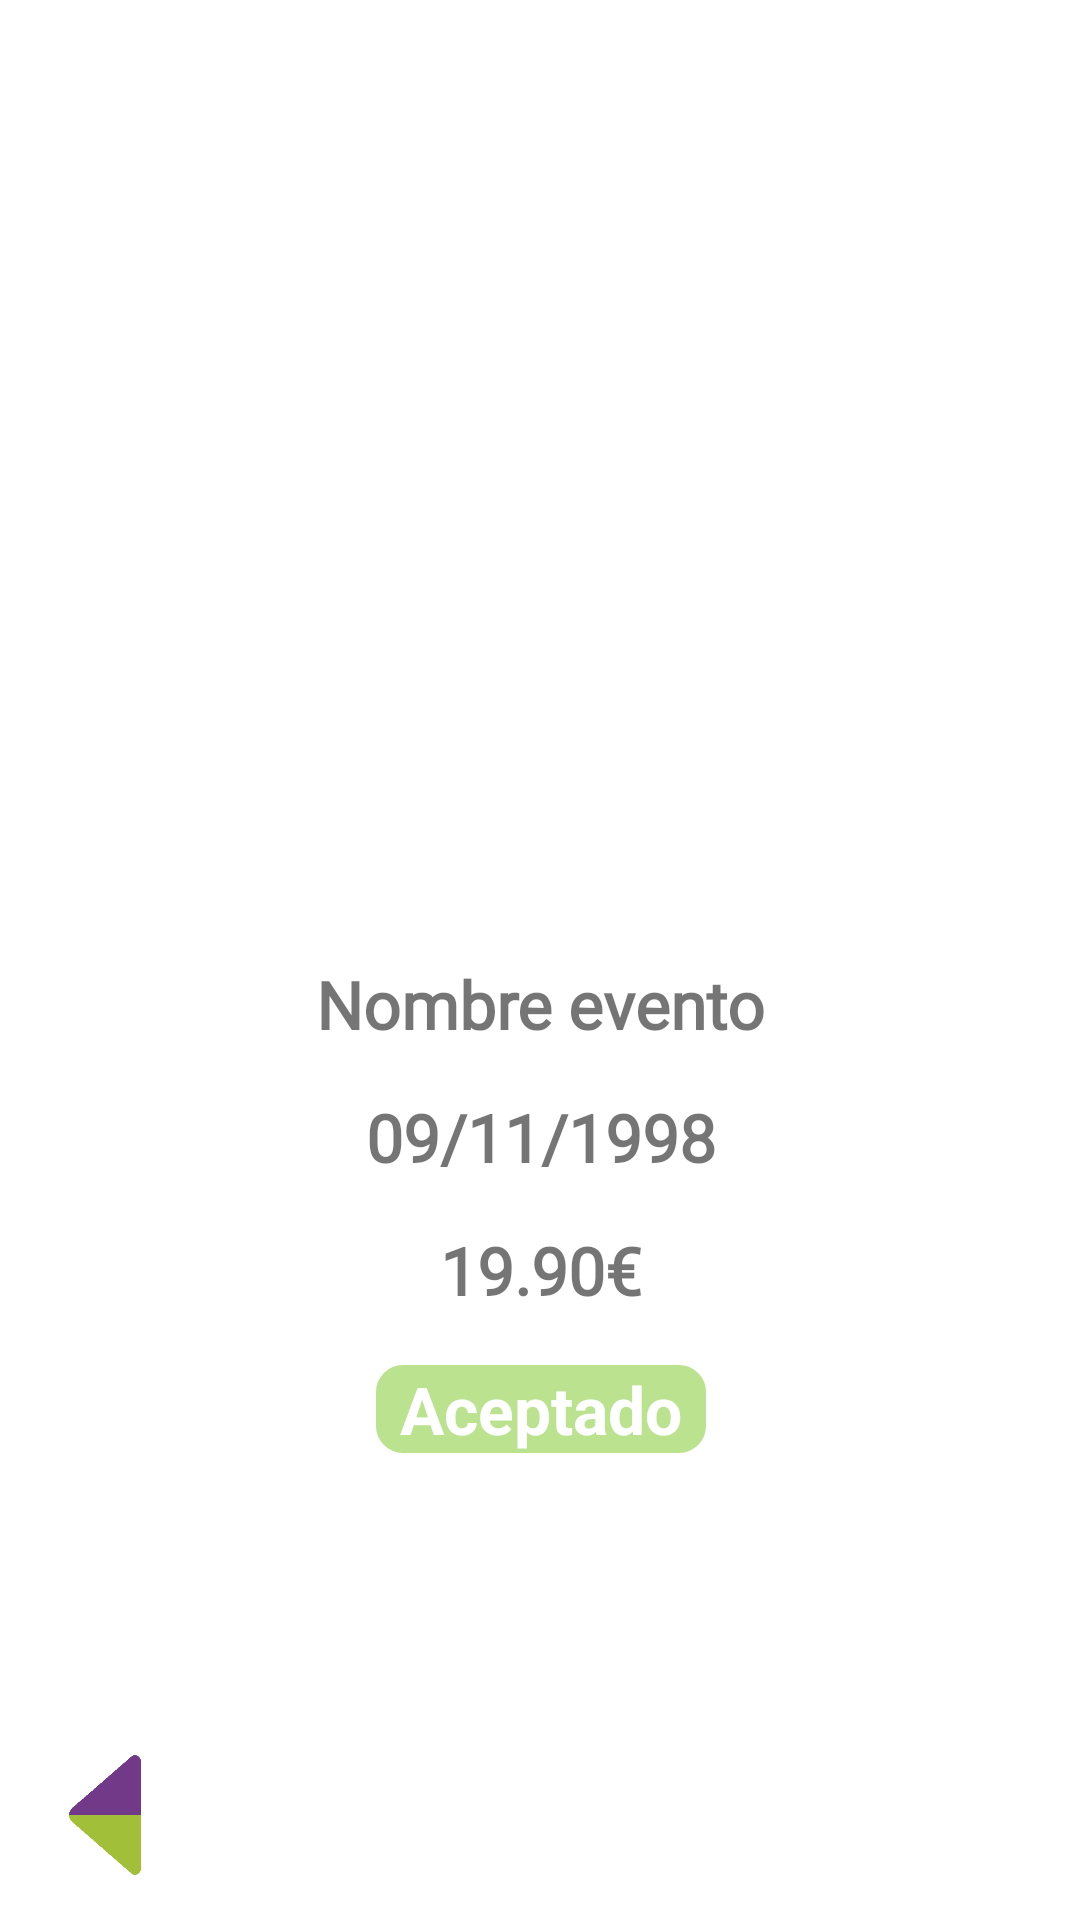

Named icons in this screenshot (1080px×1920px) and their centers, (x=x, y=y):
volver sc: (x=105, y=1815)
